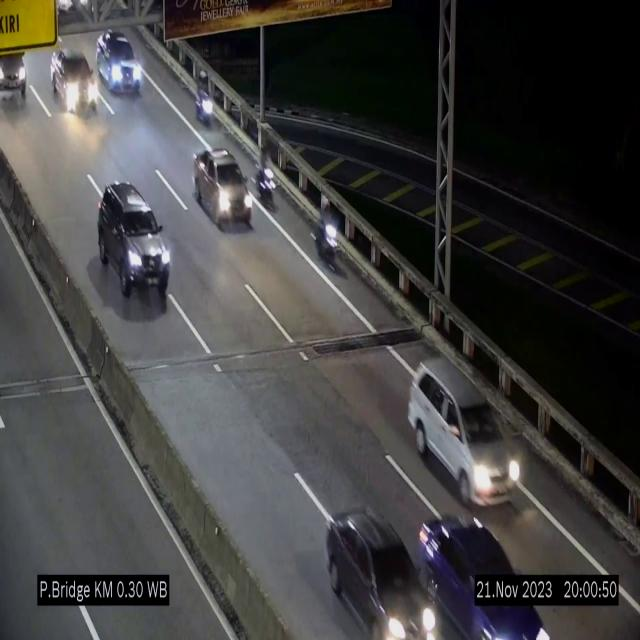Car: (413, 507, 551, 640), (409, 353, 518, 508), (328, 504, 434, 640), (97, 180, 171, 299), (194, 149, 252, 229), (51, 45, 97, 119), (96, 32, 142, 96), (0, 49, 38, 106)
Motorcycle: (252, 142, 282, 220), (317, 193, 343, 282), (193, 64, 220, 131)
